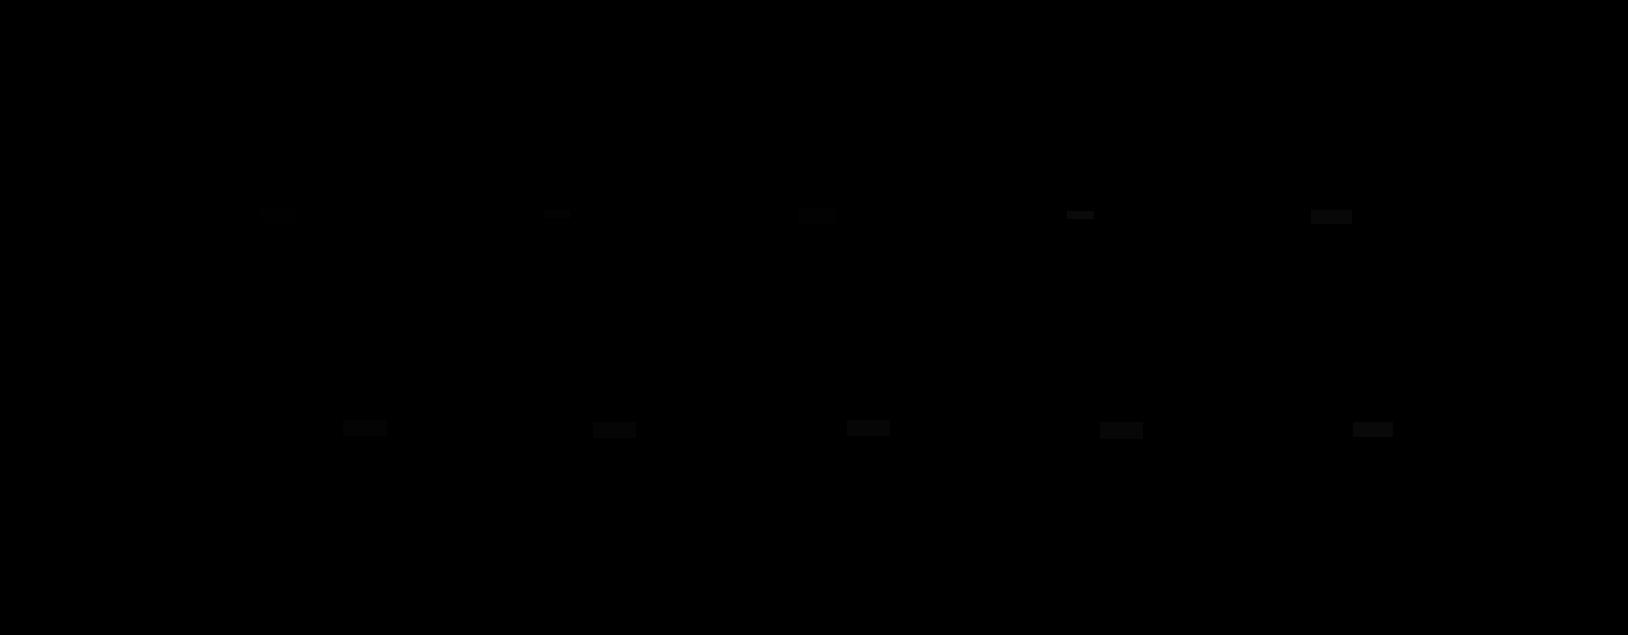light: (1100, 422, 1143, 439), (343, 420, 387, 436), (593, 422, 636, 438), (847, 420, 890, 436), (1311, 210, 1352, 224), (1353, 422, 1393, 437), (798, 208, 836, 223), (259, 208, 298, 222), (544, 210, 571, 218), (1067, 211, 1094, 219)
